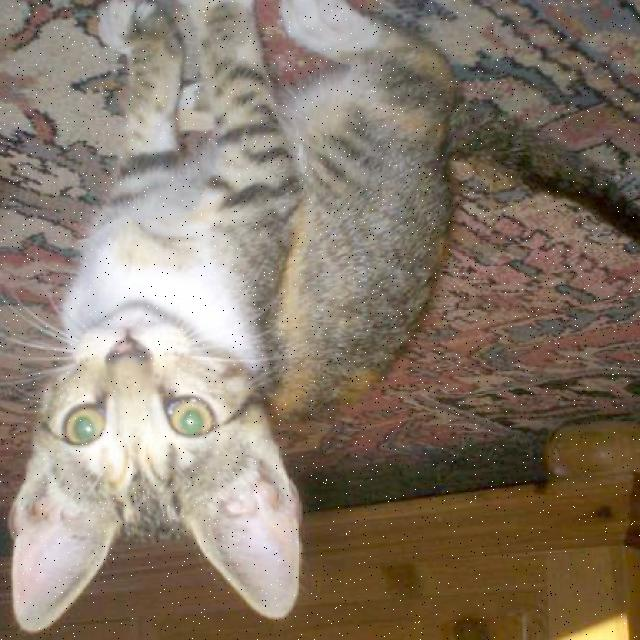Cat: (0, 288, 307, 618)
